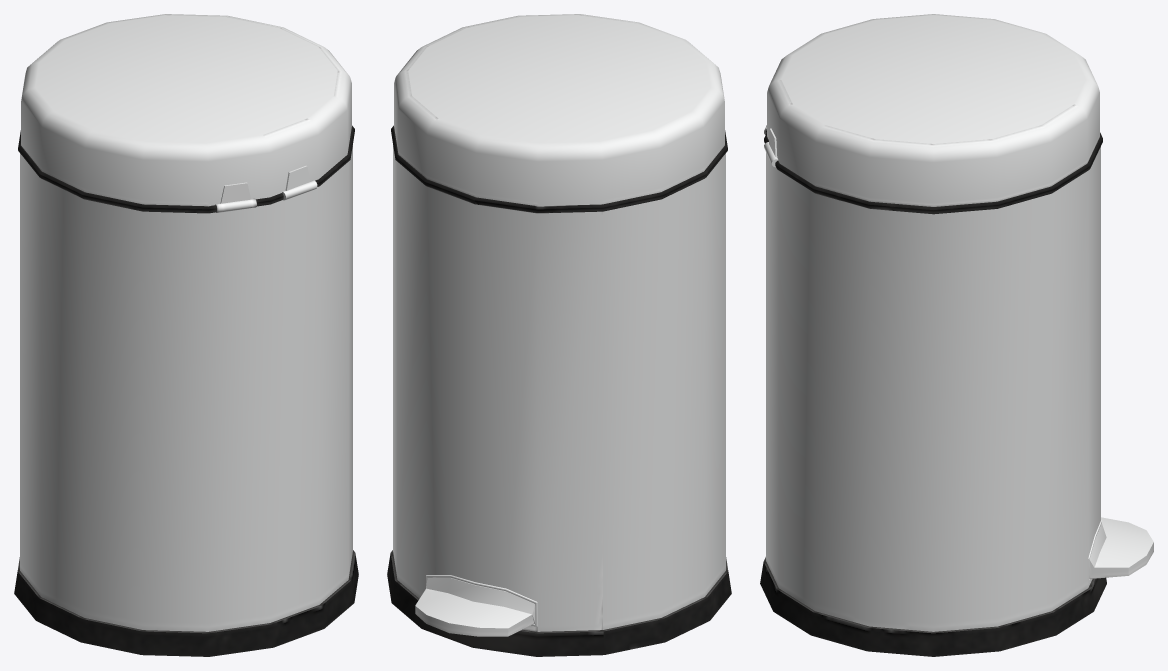
Rendered from Trashcan.fbx.
The picture shows the model from 3 angles, left to right: view 1: azimuth 30°, elevation 25°; view 2: azimuth 150°, elevation 25°; view 3: azimuth 270°, elevation 25°; orthographic projection.
Parts seen in each view (by area): view 1: Trashcan; view 2: Trashcan; view 3: Trashcan.
Boxes of the visible parts, <box> form: Trashcan: <box>14,14,358,656</box>; Trashcan: <box>387,14,731,656</box>; Trashcan: <box>760,14,1153,656</box>.
Bounding box in the file's own units: 87.76 × 141 × 99.59.
